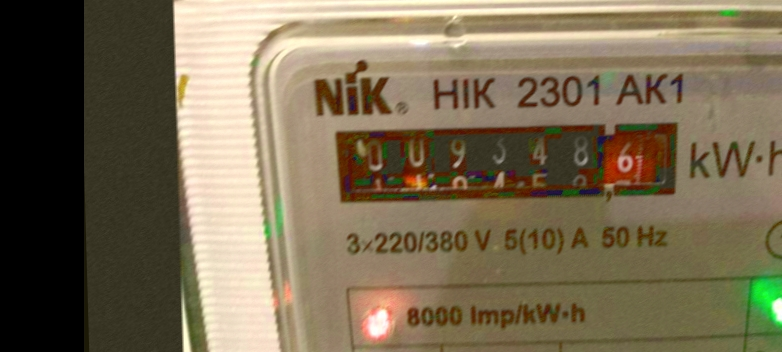0: (408, 136, 430, 173), (367, 139, 388, 175)
3: (490, 135, 513, 167)
4: (530, 134, 552, 171)
6: (617, 141, 640, 176)
8: (573, 135, 594, 169)
9: (451, 136, 470, 171)
screen: (314, 109, 702, 221)
